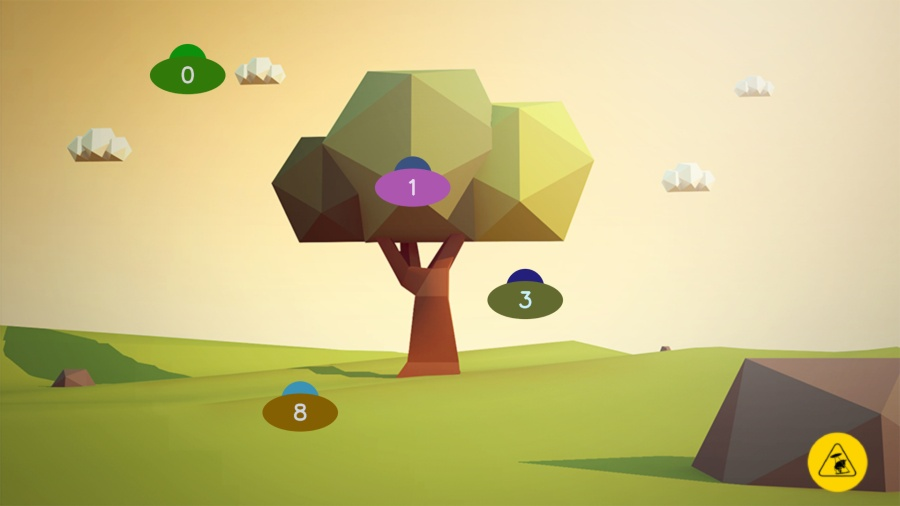ufo: (486, 268, 564, 320), (149, 43, 227, 95), (375, 155, 451, 207), (262, 381, 339, 432)
